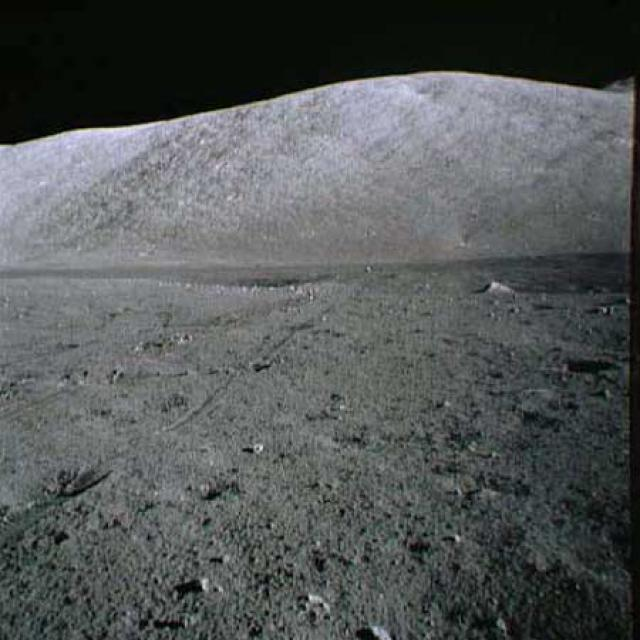crater: (1, 470, 96, 499), (550, 356, 615, 376), (78, 369, 131, 385)
rock: (482, 276, 511, 296), (362, 622, 392, 638), (246, 436, 268, 457)
